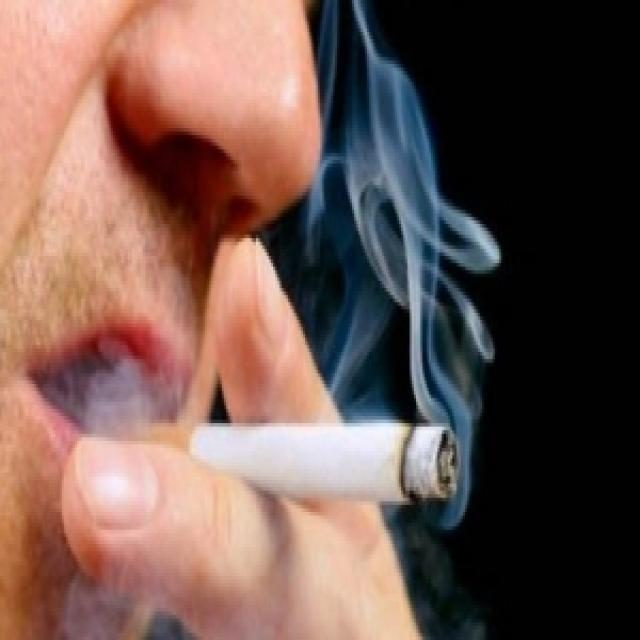rokok: (114, 404, 458, 506)
